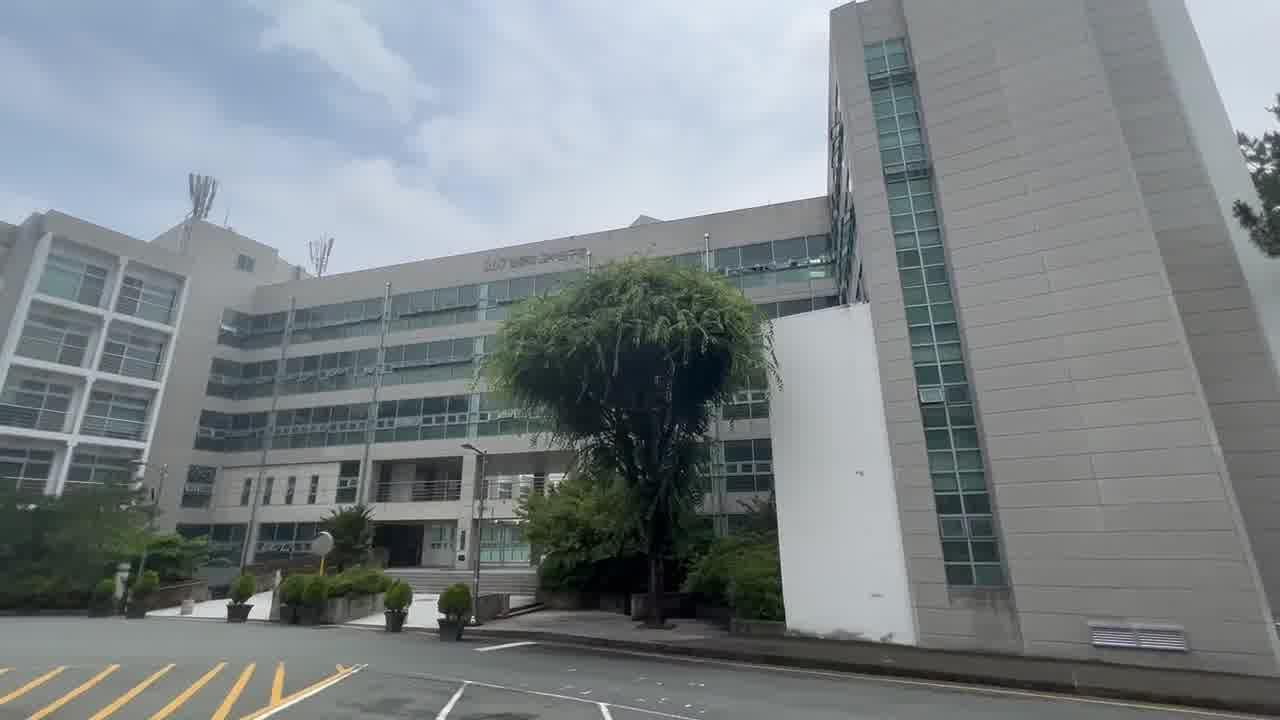building: (47, 184, 498, 519)
